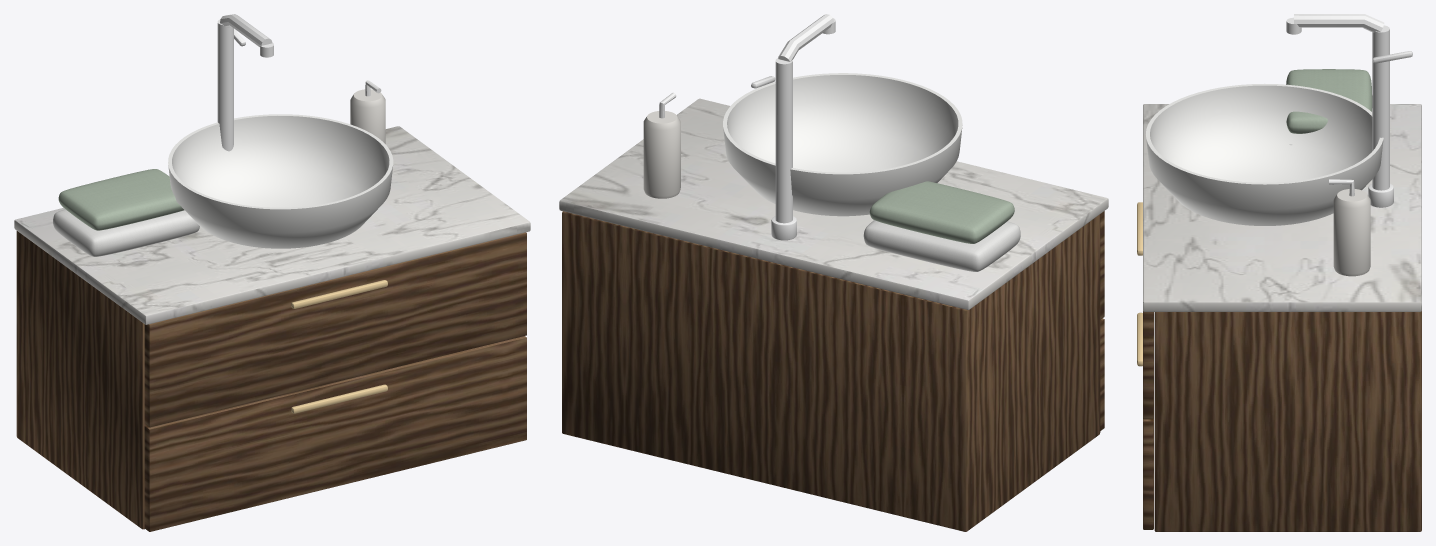
The model's file is vanitorio-nogal-v2.gltf.
3 views of the same model, side by side, from view 1: azimuth 30°, elevation 25°; view 2: azimuth 150°, elevation 25°; view 3: azimuth 270°, elevation 25° (orthographic). The views are drawn at different scales.
Parts seen in each view (by area): view 1: vanitorio-nogal__w_nogal_x, vanitorio-nogal__s_marmol, vanitorio-nogal__w_nogal, vanitorio-nogal__c_porcelana, vanitorio-nogal__f_lino_salvia, vanitorio-nogal__f_algodon, vanitorio-nogal__k_cromo, vanitorio-nogal__m_laton, vanitorio-nogal__c_mate; view 2: vanitorio-nogal__w_nogal, vanitorio-nogal__s_marmol, vanitorio-nogal__c_porcelana, vanitorio-nogal__f_lino_salvia, vanitorio-nogal__k_cromo, vanitorio-nogal__f_algodon, vanitorio-nogal__c_mate, vanitorio-nogal__w_nogal_x; view 3: vanitorio-nogal__w_nogal, vanitorio-nogal__s_marmol, vanitorio-nogal__c_porcelana, vanitorio-nogal__k_cromo, vanitorio-nogal__c_mate, vanitorio-nogal__f_lino_salvia, vanitorio-nogal__w_nogal_x, vanitorio-nogal__m_laton.
Part boxes in pixels (<box>): vanitorio-nogal__w_nogal_x: <box>144,232,526,531</box>; vanitorio-nogal__s_marmol: <box>14,126,530,324</box>; vanitorio-nogal__w_nogal: <box>16,231,146,529</box>; vanitorio-nogal__c_porcelana: <box>168,114,393,248</box>; vanitorio-nogal__f_lino_salvia: <box>58,169,184,230</box>; vanitorio-nogal__f_algodon: <box>53,209,199,256</box>; vanitorio-nogal__k_cromo: <box>217,14,381,151</box>; vanitorio-nogal__m_laton: <box>291,280,387,413</box>; vanitorio-nogal__c_mate: <box>350,89,385,143</box>; vanitorio-nogal__w_nogal: <box>562,211,1100,531</box>; vanitorio-nogal__s_marmol: <box>559,98,1108,309</box>; vanitorio-nogal__c_porcelana: <box>723,73,962,216</box>; vanitorio-nogal__f_lino_salvia: <box>869,181,1014,243</box>; vanitorio-nogal__k_cromo: <box>659,14,835,240</box>; vanitorio-nogal__f_algodon: <box>863,220,1020,271</box>; vanitorio-nogal__c_mate: <box>643,111,680,198</box>; vanitorio-nogal__w_nogal_x: <box>1100,211,1104,430</box>; vanitorio-nogal__w_nogal: <box>1154,311,1421,531</box>; vanitorio-nogal__s_marmol: <box>1143,104,1421,311</box>; vanitorio-nogal__c_porcelana: <box>1146,83,1383,225</box>; vanitorio-nogal__k_cromo: <box>1286,14,1412,207</box>; vanitorio-nogal__c_mate: <box>1333,189,1370,276</box>; vanitorio-nogal__f_lino_salvia: <box>1286,69,1372,133</box>; vanitorio-nogal__w_nogal_x: <box>1143,311,1153,529</box>; vanitorio-nogal__m_laton: <box>1137,202,1142,366</box>.
Size of the model in its own units: 0.81 by 0.7964 by 0.49.
Materials: 9 (5 with a texture image).
